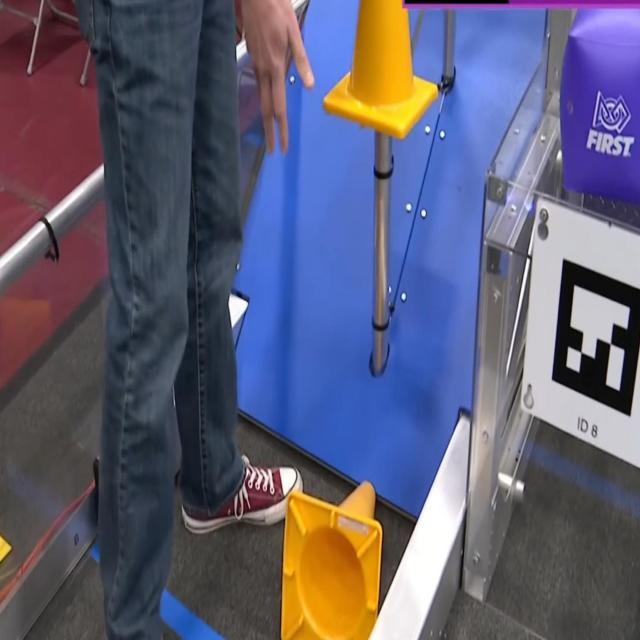frc_cone: (321, 0, 442, 145), (280, 479, 384, 640)
frc_cube: (556, 0, 639, 203)
